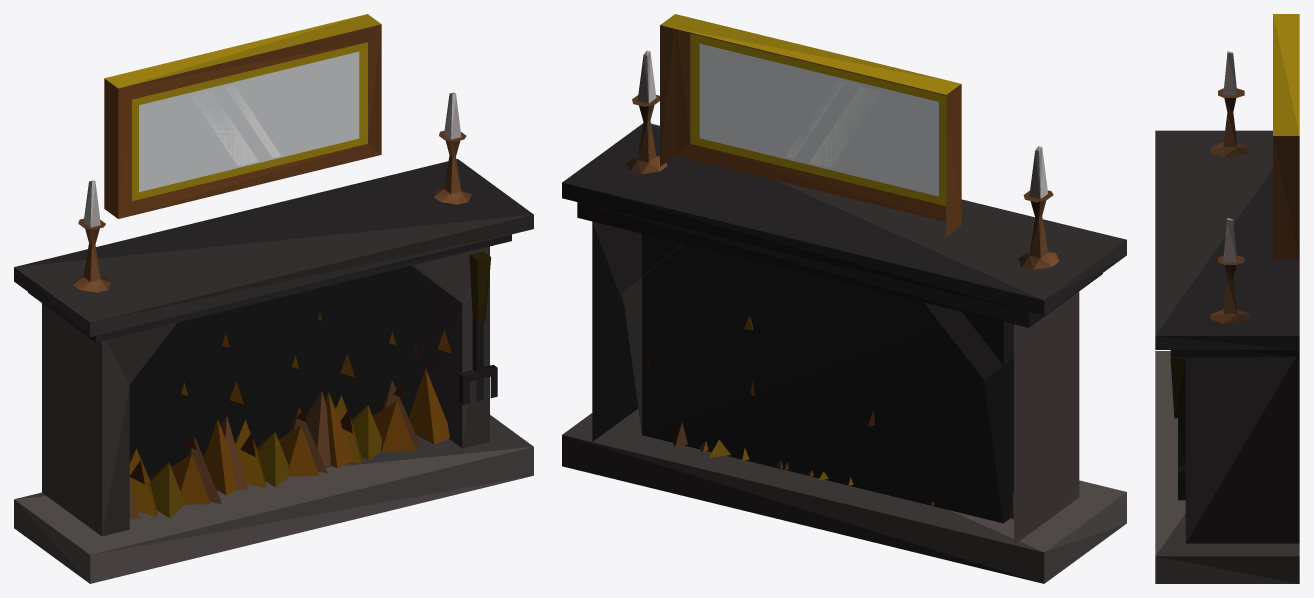
File: fireplace.obj
3 renders of one model, left to right at view 1: azimuth 30°, elevation 25°; view 2: azimuth 150°, elevation 25°; view 3: azimuth 270°, elevation 25°, orthographic. The views are drawn at different scales.
Visible parts, largest first — view 1: Object Fireplace 2026-09-21_11-17-45; view 2: Object Fireplace 2026-09-21_11-17-45; view 3: Object Fireplace 2026-09-21_11-17-45.
Part boxes in pixels (bbox=[...]): Object Fireplace 2026-09-21_11-17-45: bbox=[14, 14, 533, 583]; Object Fireplace 2026-09-21_11-17-45: bbox=[562, 14, 1126, 583]; Object Fireplace 2026-09-21_11-17-45: bbox=[1155, 14, 1299, 583].
Size of the model in its own units: 256 by 236 by 76.
